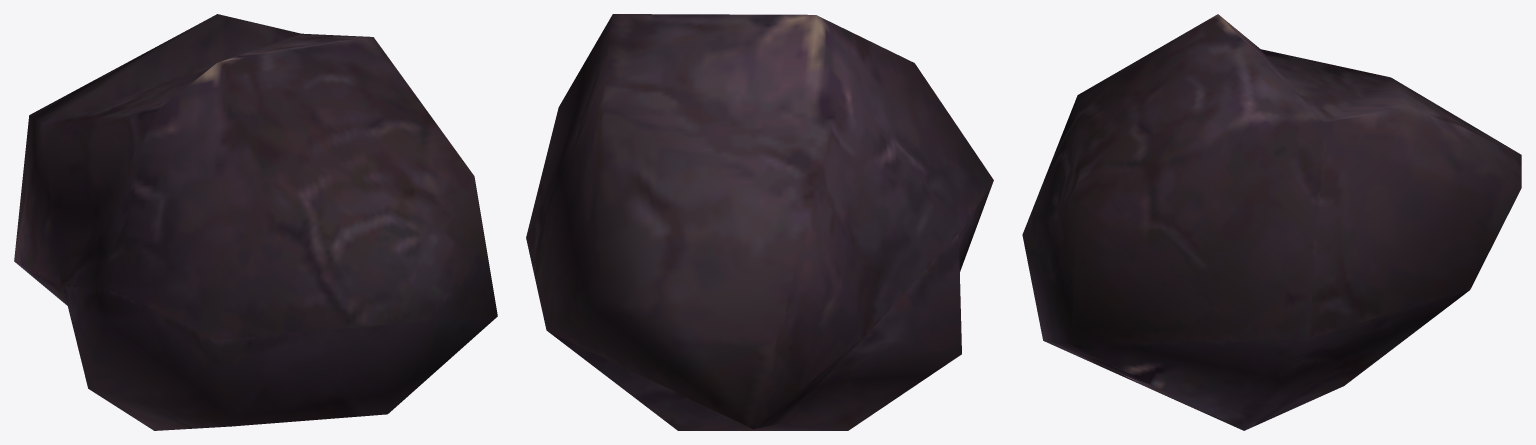
Rendered from ord_env_boulders_sml_no_moss_02.glb.
3 renders of one model, left to right at view 1: azimuth 30°, elevation 25°; view 2: azimuth 150°, elevation 25°; view 3: azimuth 270°, elevation 25°, orthographic. The views are drawn at different scales.
Parts seen in each view (by area): view 1: ord_env_boulders_sml_no_moss_02; view 2: ord_env_boulders_sml_no_moss_02; view 3: ord_env_boulders_sml_no_moss_02.
Part boxes in pixels (left/top/right/bottom): ord_env_boulders_sml_no_moss_02: left=14, top=14, right=497, bottom=430; ord_env_boulders_sml_no_moss_02: left=526, top=14, right=993, bottom=430; ord_env_boulders_sml_no_moss_02: left=1022, top=14, right=1521, bottom=430.
Bounding box in the file's own units: 0.2015 × 0.2041 × 0.2528.
1 material, 1 textured.
